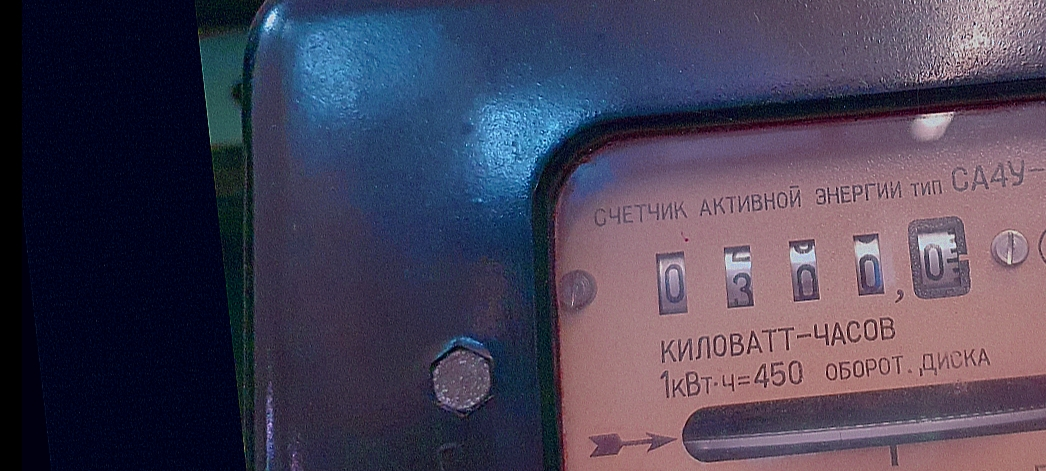0: (658, 257, 686, 306), (854, 248, 883, 295), (917, 238, 946, 283), (791, 258, 818, 302)
3: (727, 267, 754, 308)
screen: (629, 193, 992, 345)
